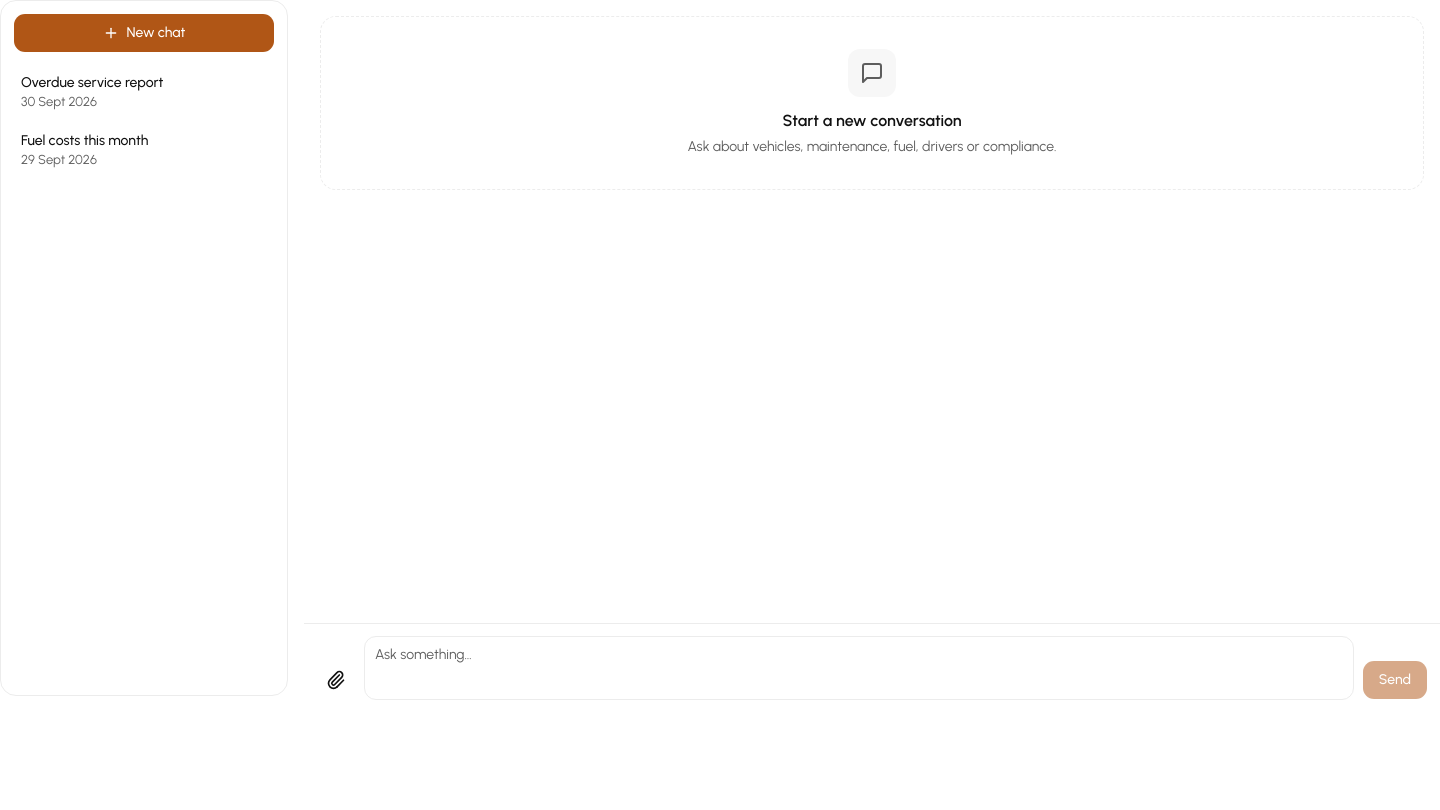
it: ChatPage › sending messages › re-reads the session list once a reply has landed, so the new title and ordering appear
Type "hi" into the text box with placeholder "Ask something…".
click(859, 668); type("hi")  # box x1=364 y1=636 x2=1354 y2=700
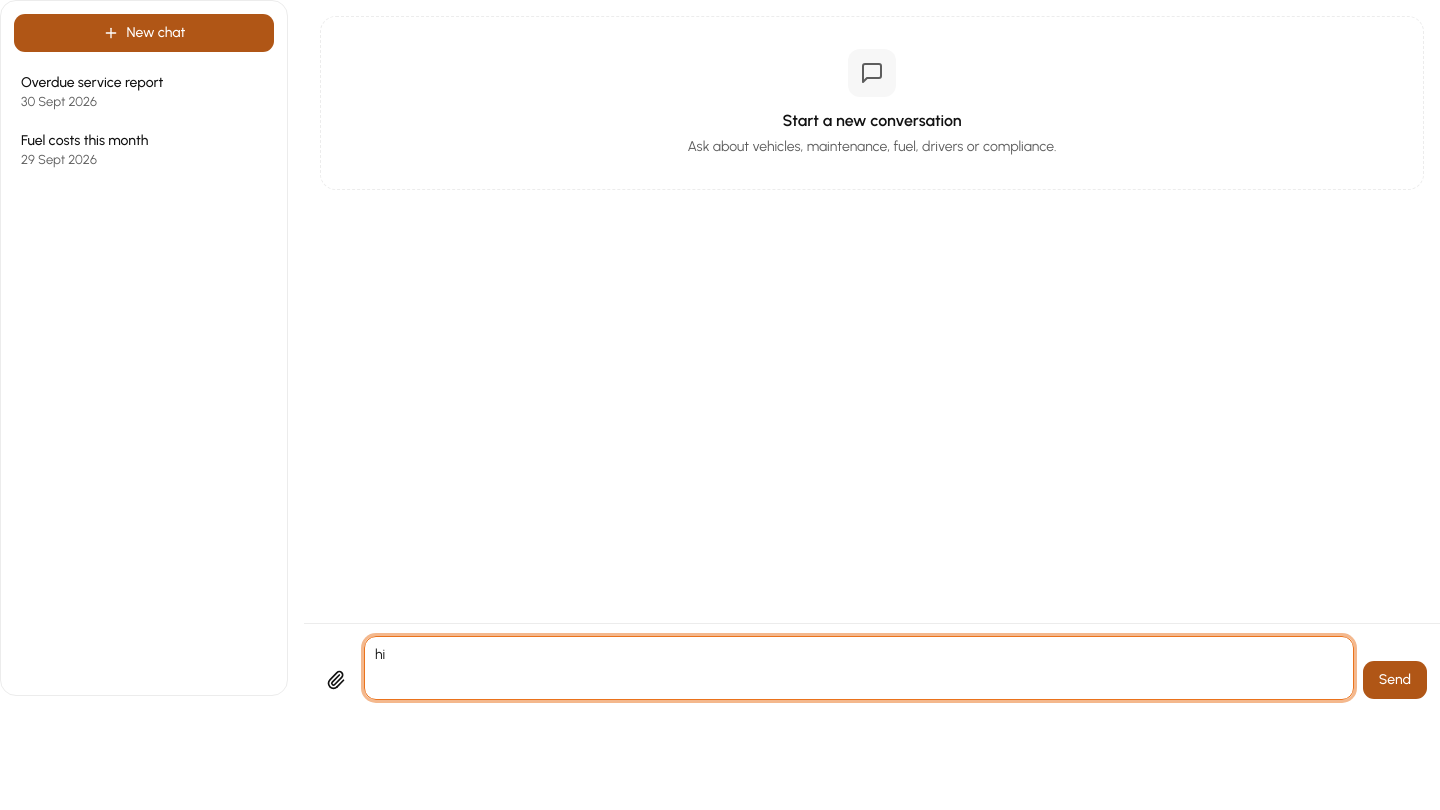
Click the button "Send".
click(1395, 680)  # box x1=1362 y1=660 x2=1428 y2=700
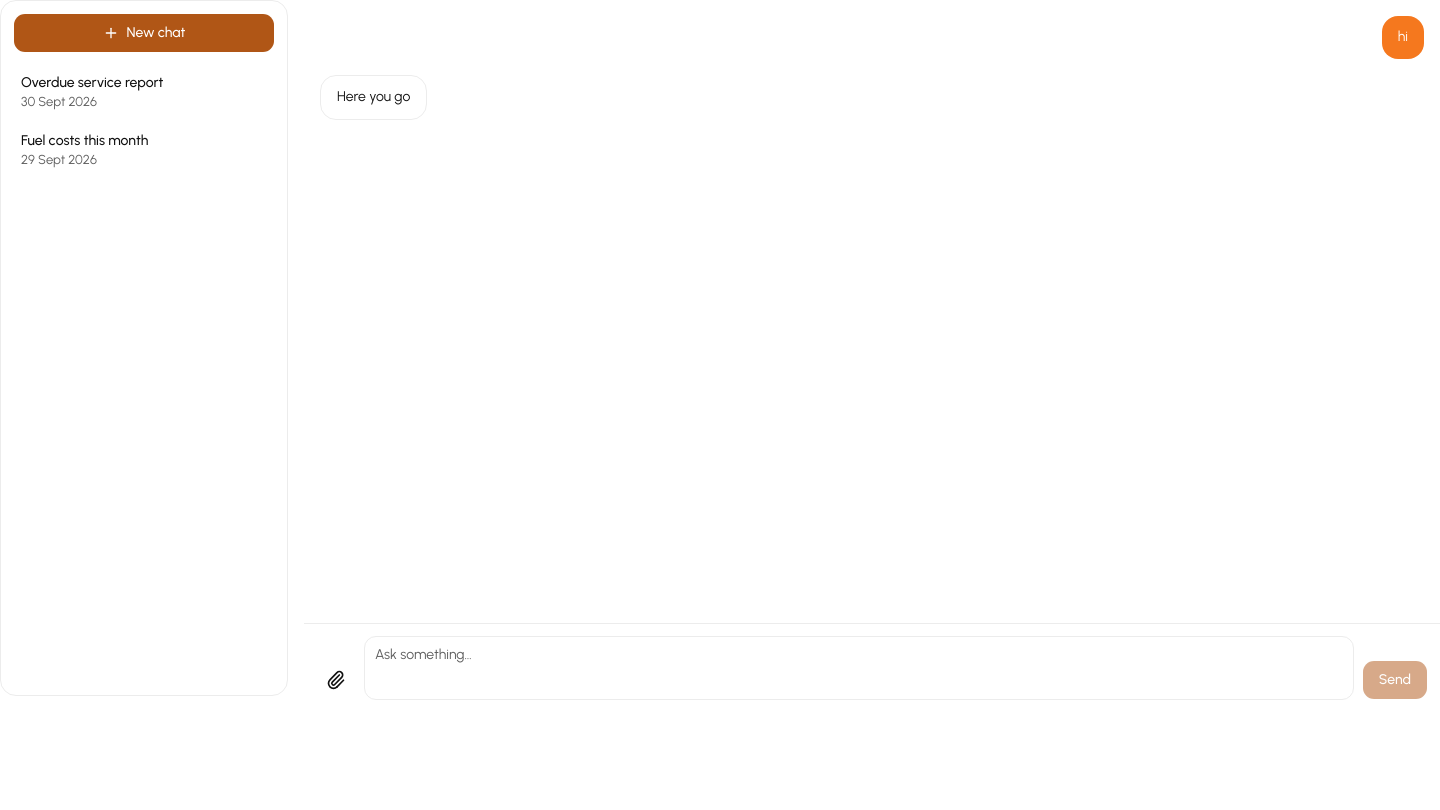
Now the text "Here you go" is shown, box x1=337 y1=86 x2=410 y2=109
